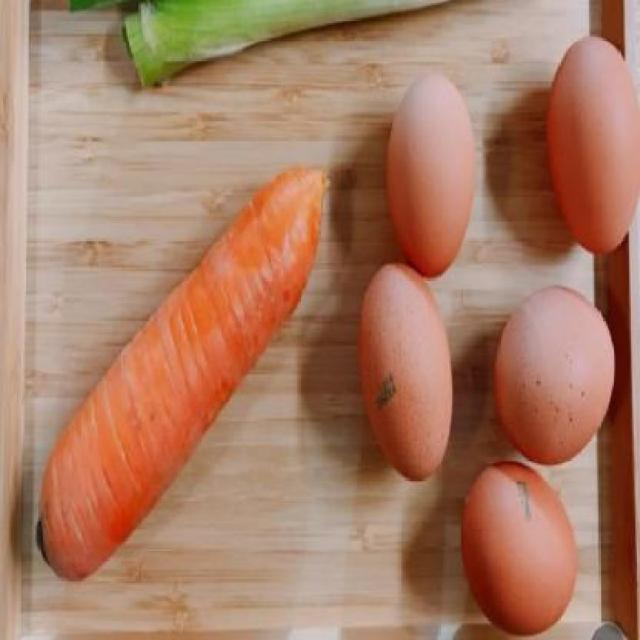carrot: (38, 160, 324, 596)
